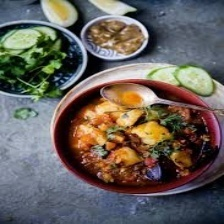sabzi: (67, 91, 215, 189)
